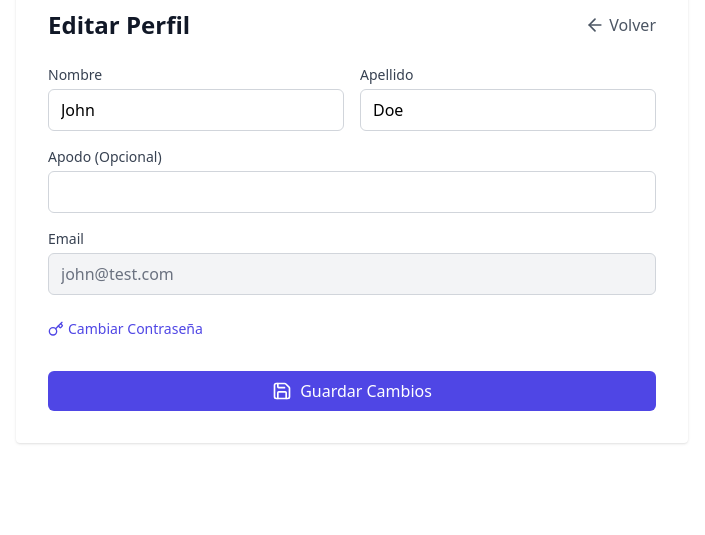
Test case: EditProfilePage › displays error on update failure
Click the button "Guardar Cambios".
click(352, 391)  # box [48,371,656,411]
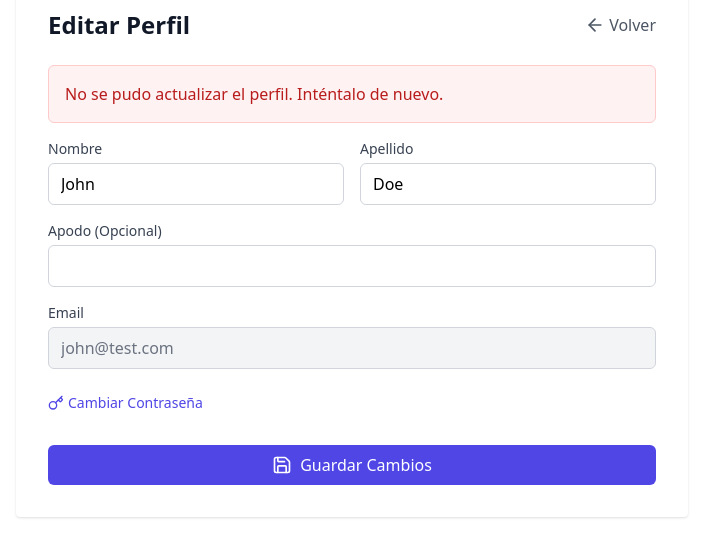
Check: the text "No se pudo actualizar el perfil. Inténtalo de nuevo." is shown, box [48,65,656,123]
